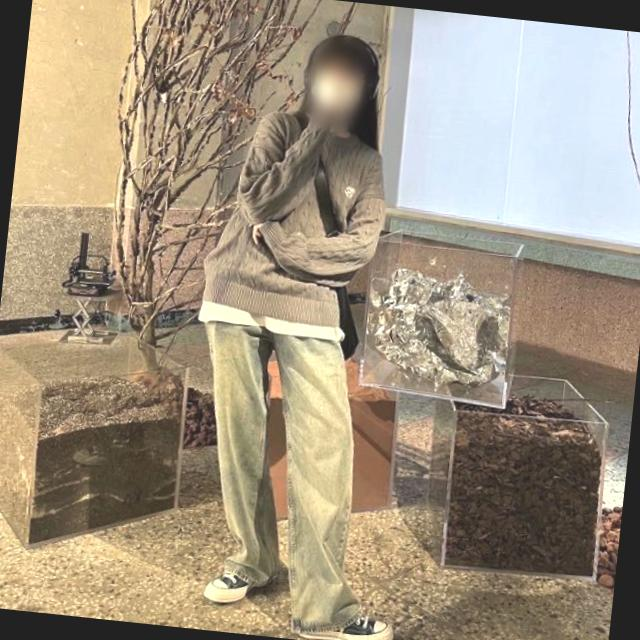denimpants: (176, 314, 390, 634)
sweater: (198, 105, 396, 332)
